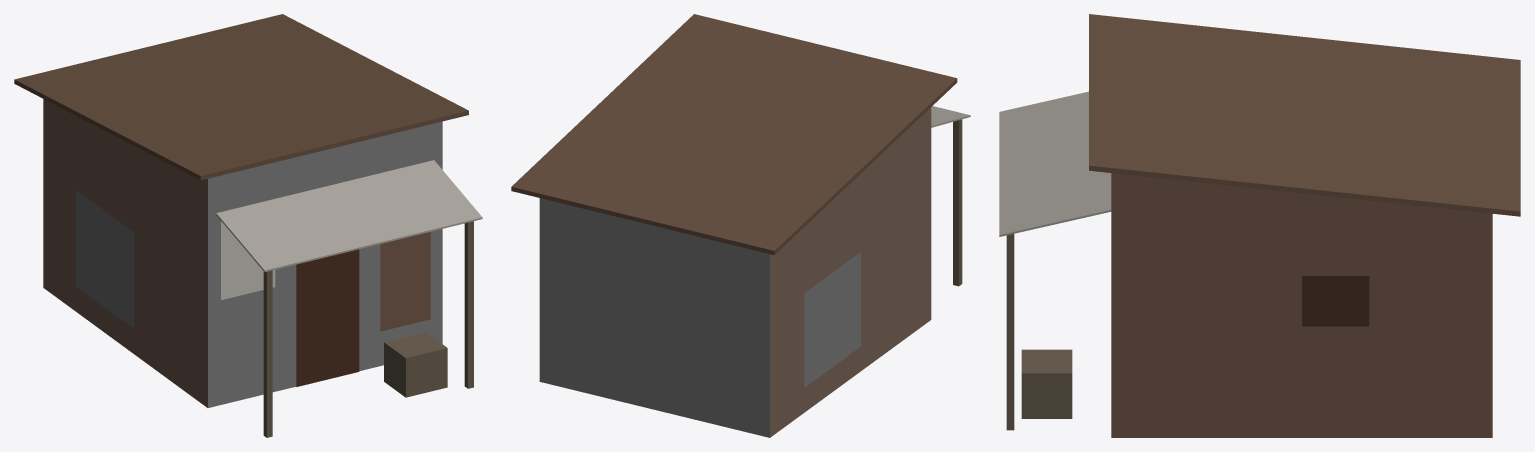
File: fill3.fbx
3 views of the same model, side by side, from view 1: azimuth 30°, elevation 25°; view 2: azimuth 150°, elevation 25°; view 3: azimuth 270°, elevation 25° (orthographic). The views are drawn at different scales.
Parts seen in each view (by area): view 1: a2014/0/fill3; view 2: a2014/0/fill3; view 3: a2014/0/fill3.
Part boxes in pixels (x1,y1,x2,y2): a2014/0/fill3: [14, 14, 482, 437]; a2014/0/fill3: [511, 14, 970, 437]; a2014/0/fill3: [999, 14, 1520, 437].
Size of the model in its own units: 3.2 by 2.77 by 4.65.
